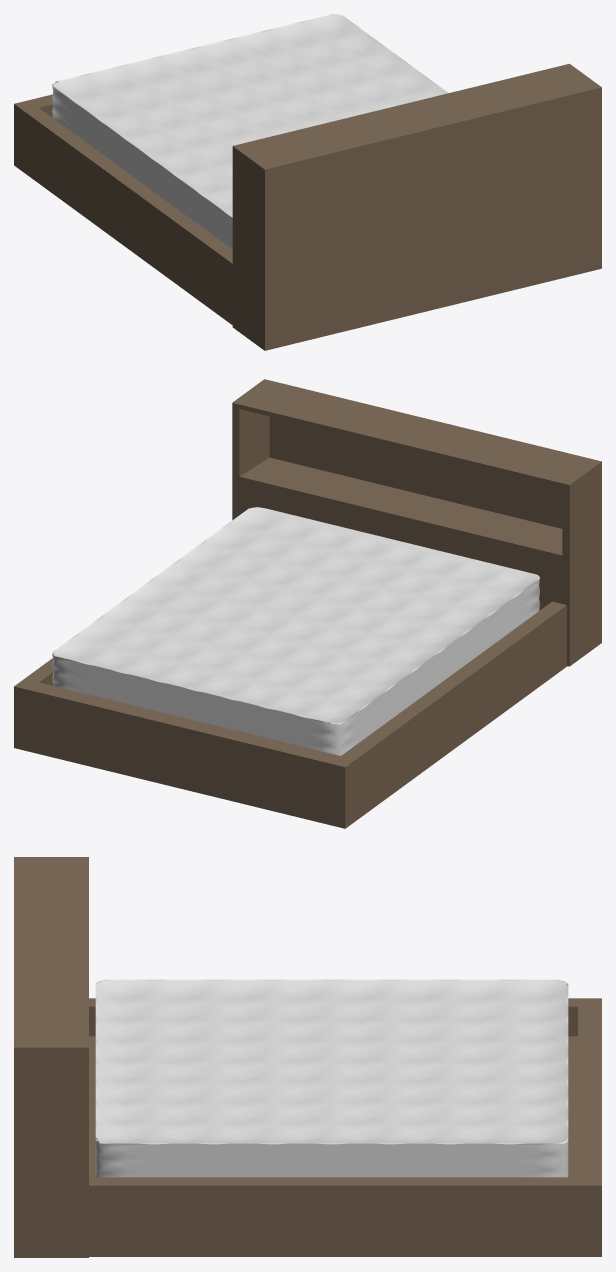
File: Bed WO nCloth.fbx
3 views of the same model, one above another, from view 1: azimuth 30°, elevation 25°; view 2: azimuth 150°, elevation 25°; view 3: azimuth 270°, elevation 25° (orthographic). The views are drawn at different scales.
Visible parts, largest first — view 1: pCube7, pCube2, pCube1; view 2: pCube2, pCube7, pCube1; view 3: pCube2, pCube1, pCube7.
Boxes of the visible parts, bbox=[...] form: pCube7: bbox=[232, 63, 601, 350]; pCube2: bbox=[52, 14, 448, 249]; pCube1: bbox=[14, 94, 232, 324]; pCube2: bbox=[52, 507, 539, 755]; pCube7: bbox=[232, 379, 601, 666]; pCube1: bbox=[14, 601, 567, 828]; pCube2: bbox=[95, 979, 568, 1177]; pCube1: bbox=[89, 998, 601, 1256]; pCube7: bbox=[14, 857, 88, 1257].
Bounding box in the file's own units: 11.76 × 6.07 × 15.33.
